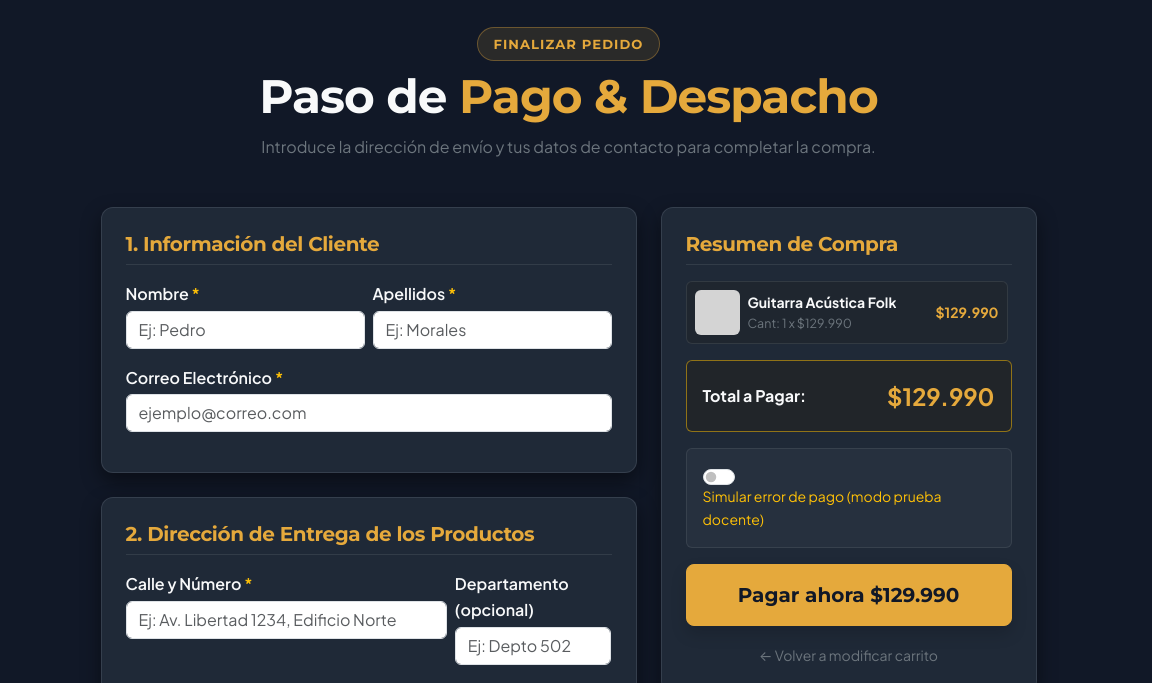
Test case: Pruebas en la vista de Checkout › Muestra formulario de pago y valida campos obligatorios al intentar pagar sin datos
The width and height of the screenshot is (1152, 683).
Check: the heading "Paso de Pago & Despacho" is shown, box top-left (259, 68), bottom-right (878, 125)
Check: the text "Guitarra Acústica Folk" is shown, box top-left (748, 292), bottom-right (896, 314)
Clic en el botón pagar sin llenar campos
Click the button "Pagar ahora $129.990": (848, 595) top-left (686, 564), bottom-right (1012, 626)
(page scrolled)
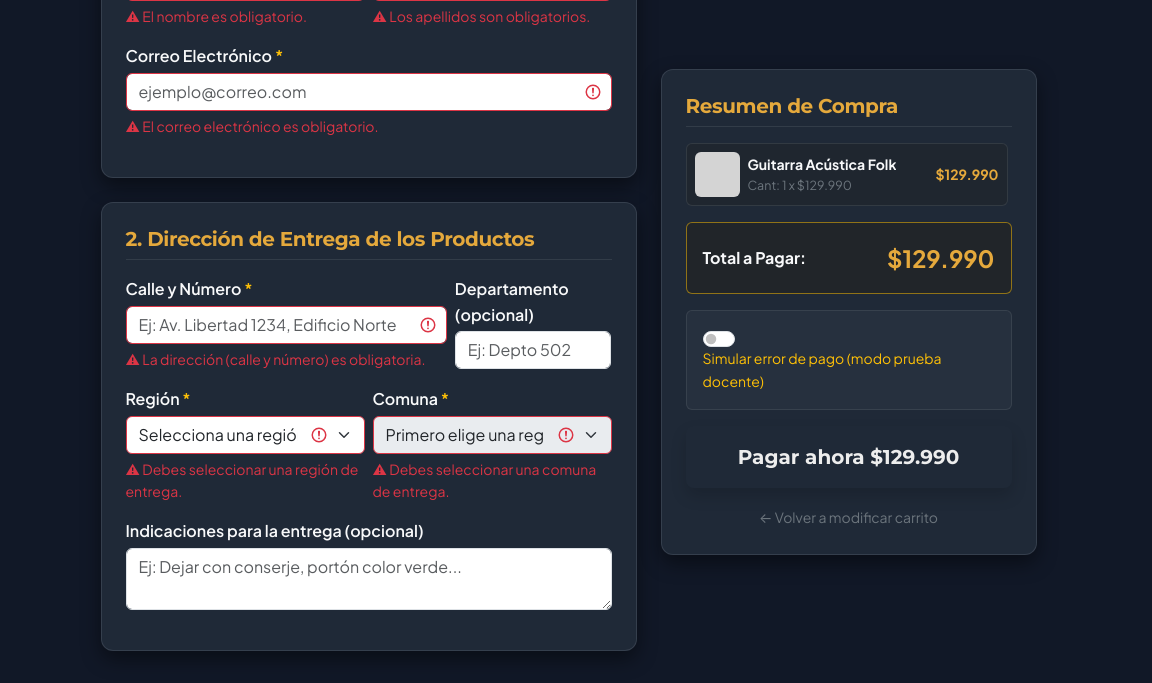
Check: the text "⚠ El nombre es obligatorio." is shown, box top-left (126, 7), bottom-right (307, 25)
Check: the text "⚠ Los apellidos son obligatorios." is shown, box top-left (372, 5), bottom-right (612, 27)
Check: the text "⚠ El correo electrónico es obligatorio." is shown, box top-left (126, 117), bottom-right (378, 135)
